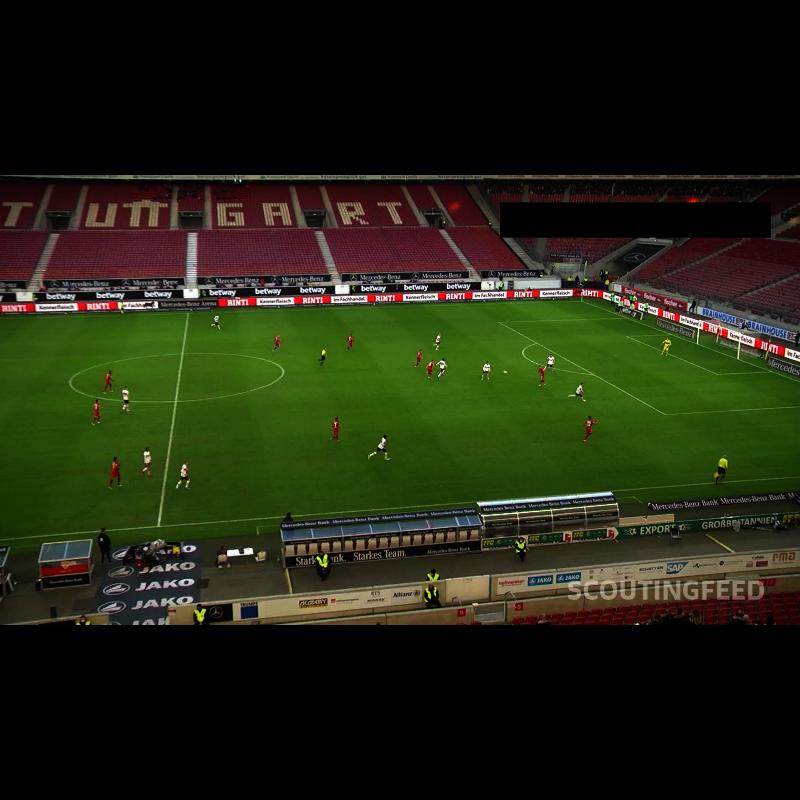cross_recipient_zone: (500, 317, 800, 414)
crossing_player_zone: (548, 406, 800, 489), (404, 301, 625, 325)
pitch: (0, 301, 800, 540)
